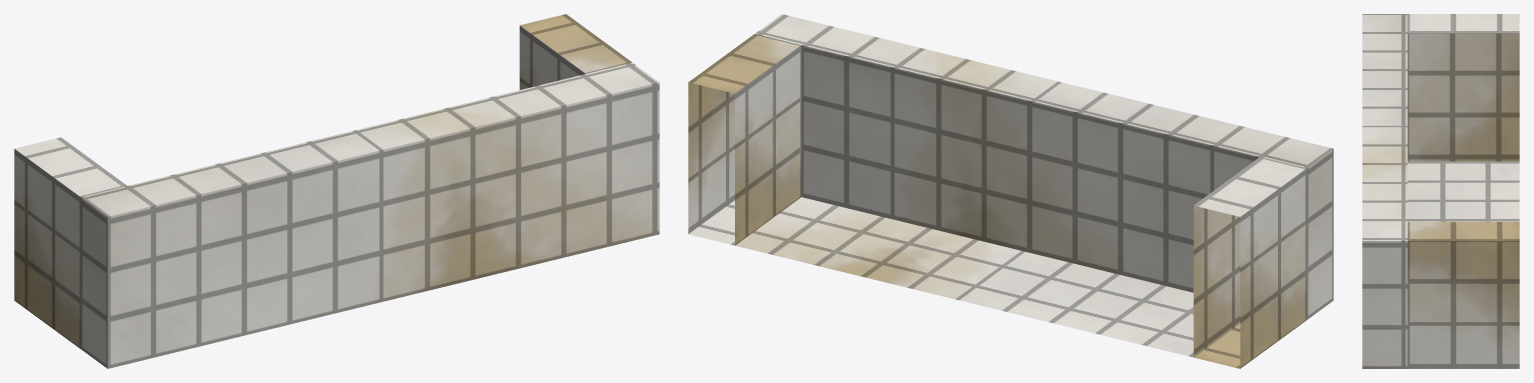
File: VarandaFechadaPequena 2.fbx
3 renders of one model, left to right at view 1: azimuth 30°, elevation 25°; view 2: azimuth 150°, elevation 25°; view 3: azimuth 270°, elevation 25°, orthographic. The views are drawn at different scales.
Parts seen in each view (by area): view 1: VarandaFechadaPequena; view 2: VarandaFechadaPequena; view 3: VarandaFechadaPequena.
Part boxes in pixels (x1,y1,x2,y2): VarandaFechadaPequena: [14, 14, 659, 368]; VarandaFechadaPequena: [688, 14, 1333, 368]; VarandaFechadaPequena: [1362, 14, 1519, 368].
Size of the model in its own units: 817 by 215 by 240.
